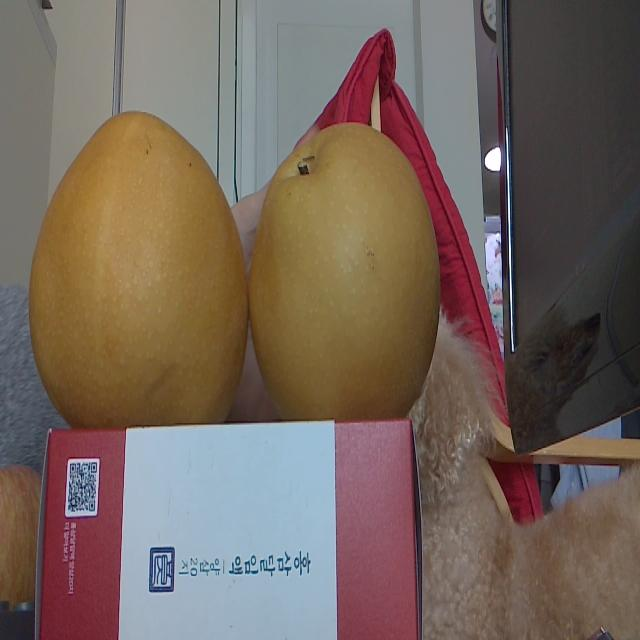apple: (0, 464, 37, 612)
pear: (30, 117, 246, 426), (251, 123, 441, 416)
